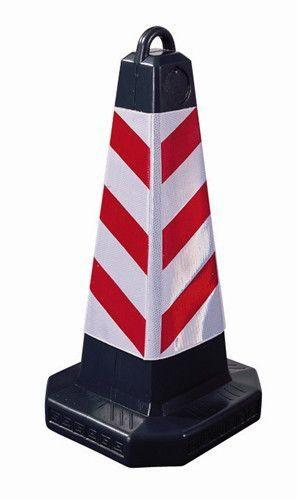cone_barrel: (66, 26, 235, 412)
